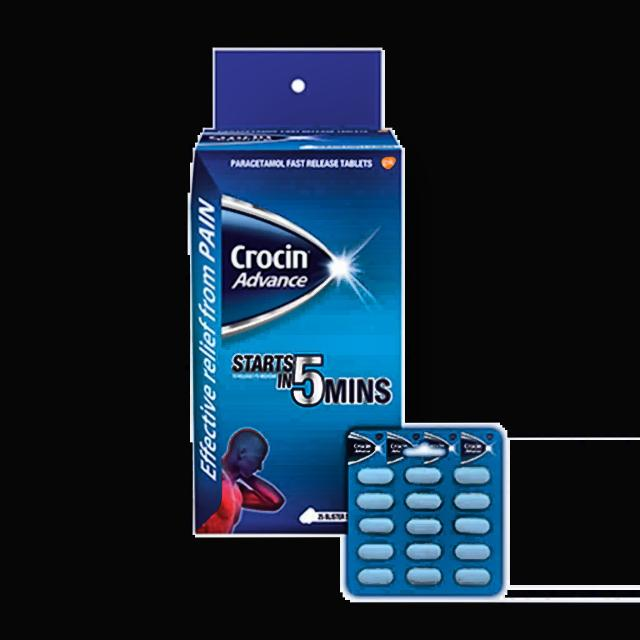Crocin: (221, 199, 337, 326)
